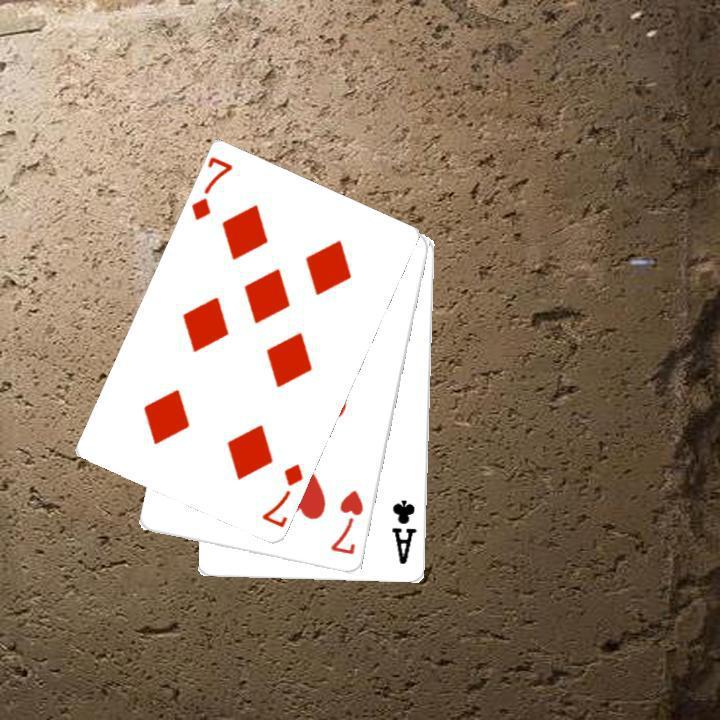7: (257, 459, 306, 529), (188, 154, 235, 224), (326, 486, 366, 558)
A: (388, 496, 419, 566)
